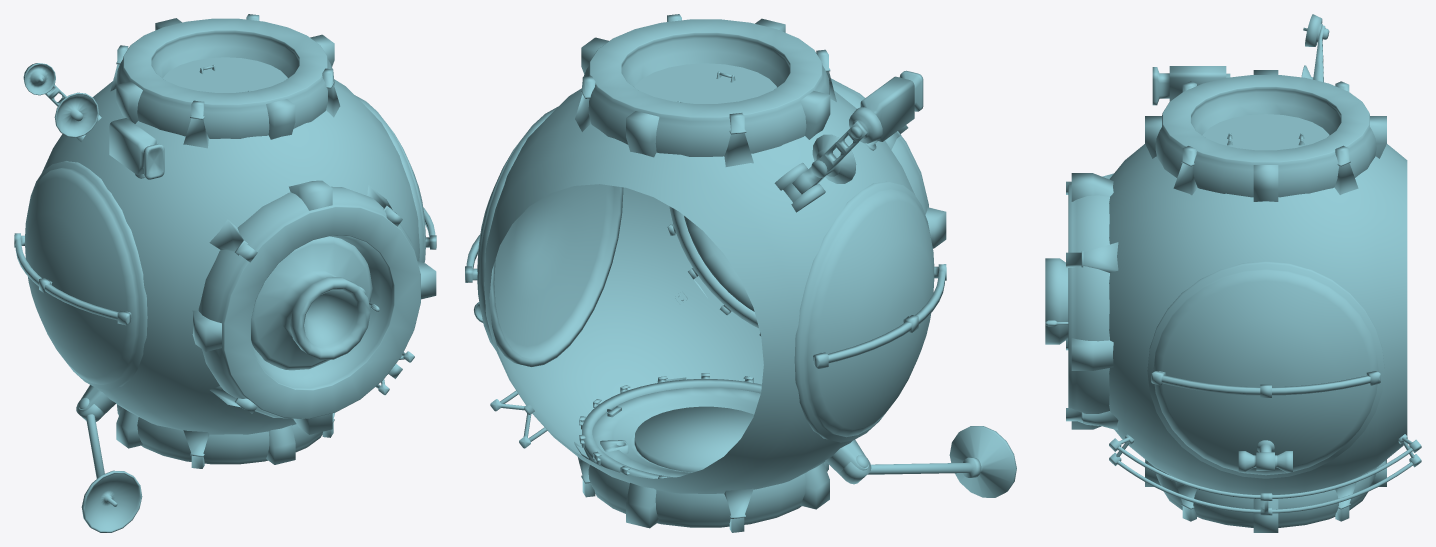
The model's file is Zvezda_Docking_Compartment.fbx.
The picture shows the model from 3 angles, left to right: view 1: azimuth 30°, elevation 25°; view 2: azimuth 150°, elevation 25°; view 3: azimuth 270°, elevation 25°; orthographic projection. The views are drawn at different scales.
Parts seen in each view (by area): view 1: Zvezda_Docking_Compartment, Zvezda_Docking_Compartment.002; view 2: Zvezda_Docking_Compartment, Zvezda_Docking_Compartment.002; view 3: Zvezda_Docking_Compartment, Zvezda_Docking_Compartment.002.
Boxes of the visible parts, bbox=[...] form: Zvezda_Docking_Compartment: bbox=[14, 14, 436, 468]; Zvezda_Docking_Compartment.002: bbox=[23, 63, 419, 532]; Zvezda_Docking_Compartment: bbox=[465, 14, 946, 532]; Zvezda_Docking_Compartment.002: bbox=[484, 70, 1016, 497]; Zvezda_Docking_Compartment: bbox=[1045, 70, 1386, 532]; Zvezda_Docking_Compartment.002: bbox=[1109, 14, 1421, 515].
Bounding box in the file's own units: 237 × 229 × 191.
